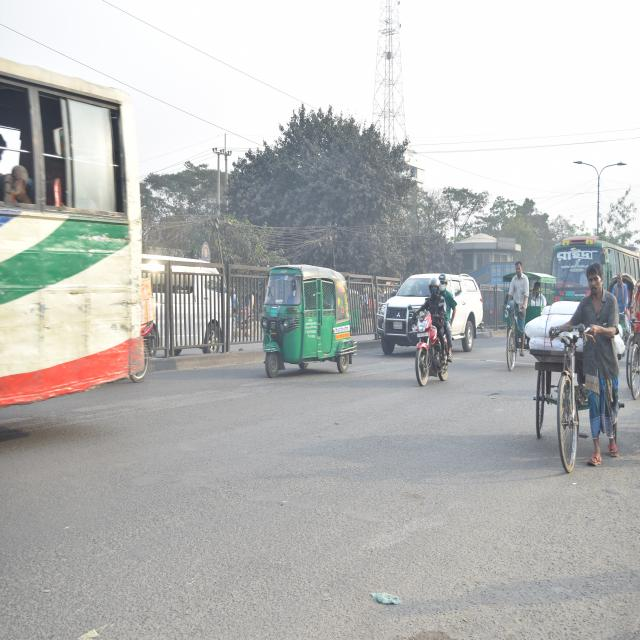bus: (0, 48, 146, 424), (549, 231, 640, 310)
car: (366, 268, 489, 346)
motorbike: (406, 304, 455, 392)
